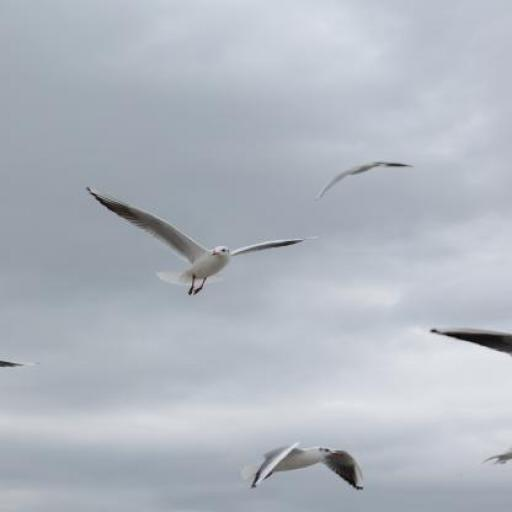bird: (87, 184, 319, 296), (240, 440, 364, 494), (320, 160, 412, 198)
